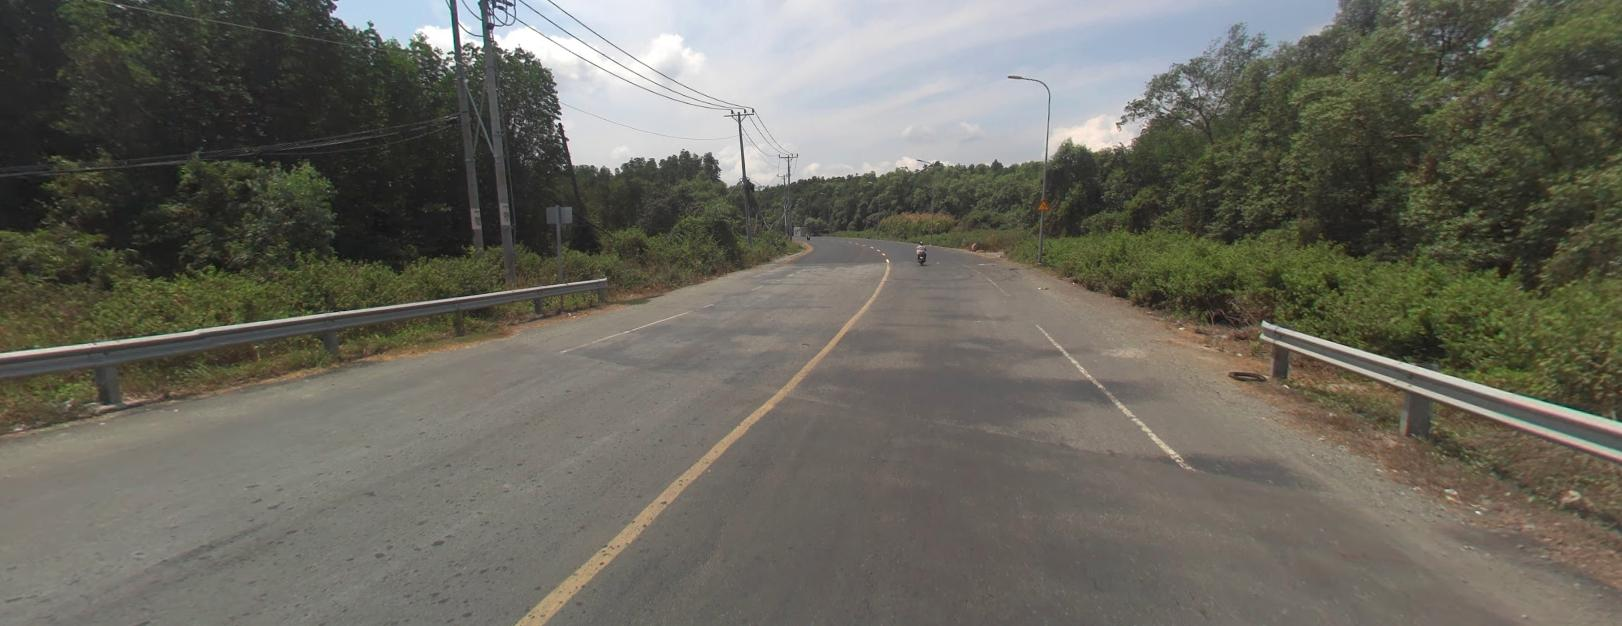Nguy hiem: (1037, 198, 1049, 209)
